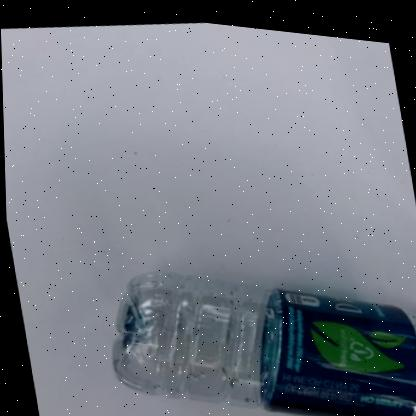Plastic: (109, 268, 416, 416)
